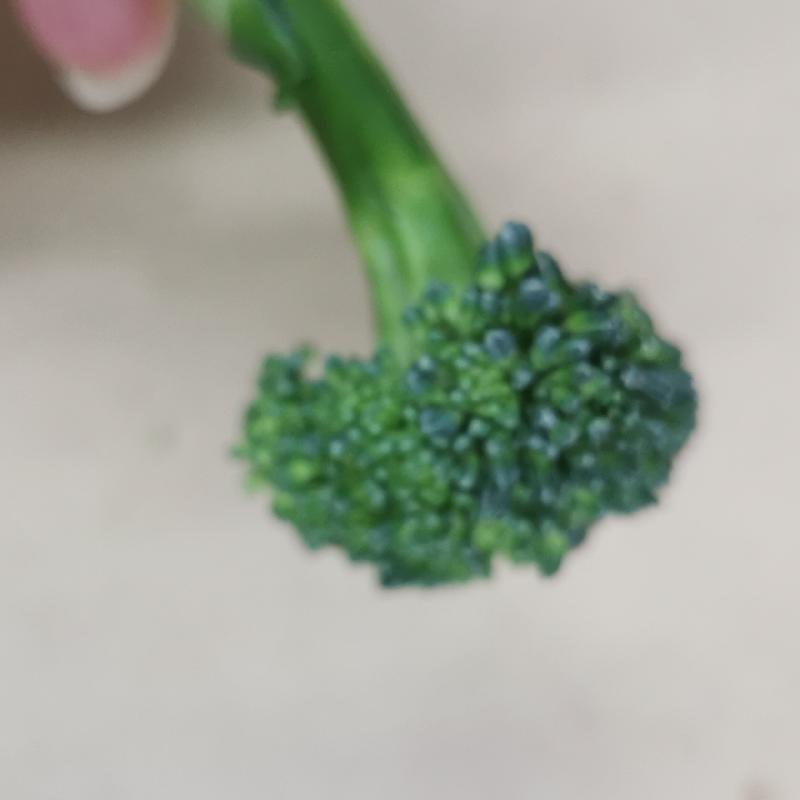broccoli: (211, 16, 702, 611)
